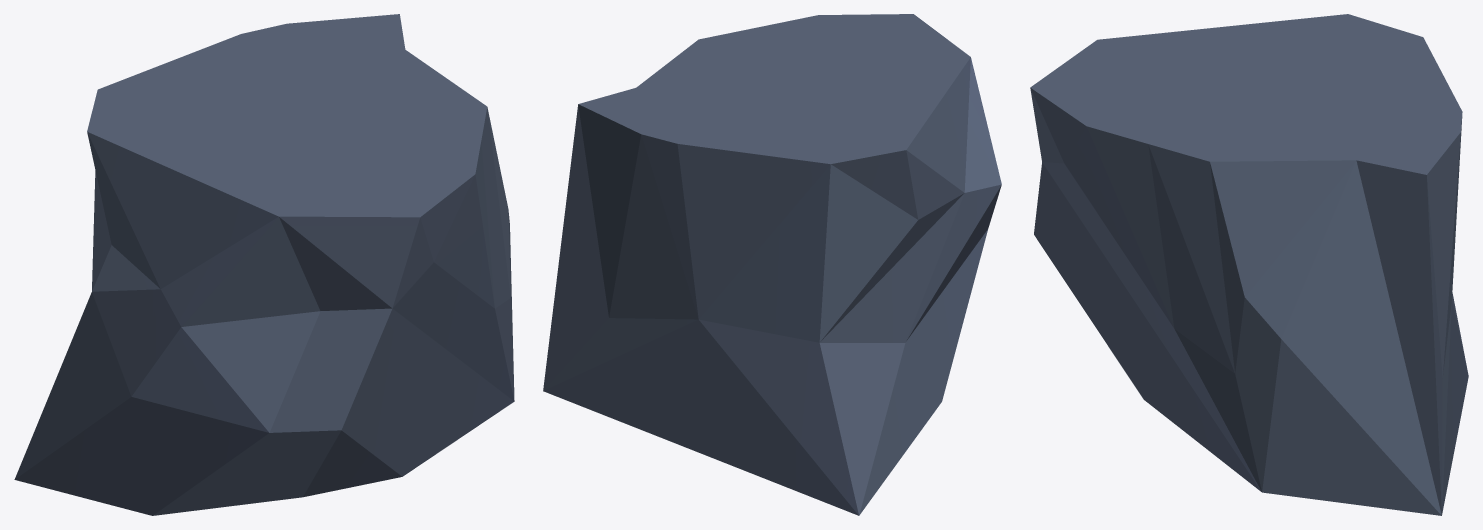
File: sp_rock06.glb
3 views of the same model, side by side, from view 1: azimuth 30°, elevation 25°; view 2: azimuth 150°, elevation 25°; view 3: azimuth 270°, elevation 25° (orthographic). The views are drawn at different scales.
Parts seen in each view (by area): view 1: SP_Rock06; view 2: SP_Rock06; view 3: SP_Rock06.
Part boxes in pixels (box(x1,y1,x2,y2)): SP_Rock06: box(14, 14, 514, 515); SP_Rock06: box(543, 14, 1001, 515); SP_Rock06: box(1030, 14, 1468, 515).
Bounding box in the file's own units: 153 × 144 × 156.
Materials: 1 (1 with a texture image).
